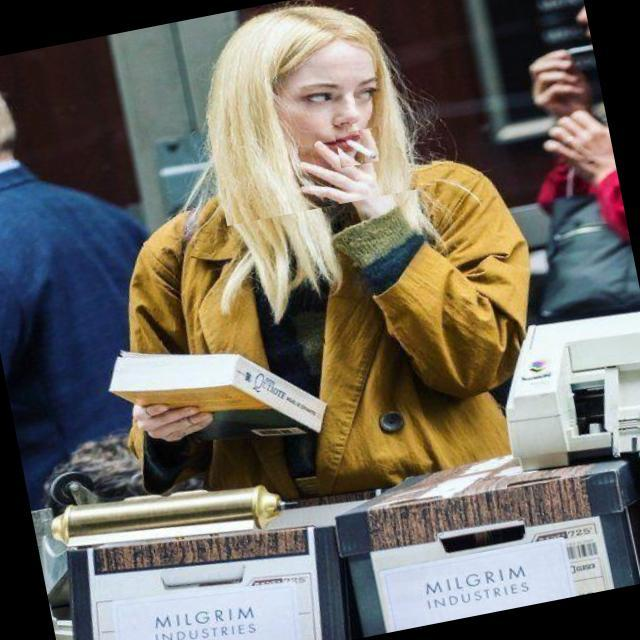cigarette: (335, 126, 385, 168)
